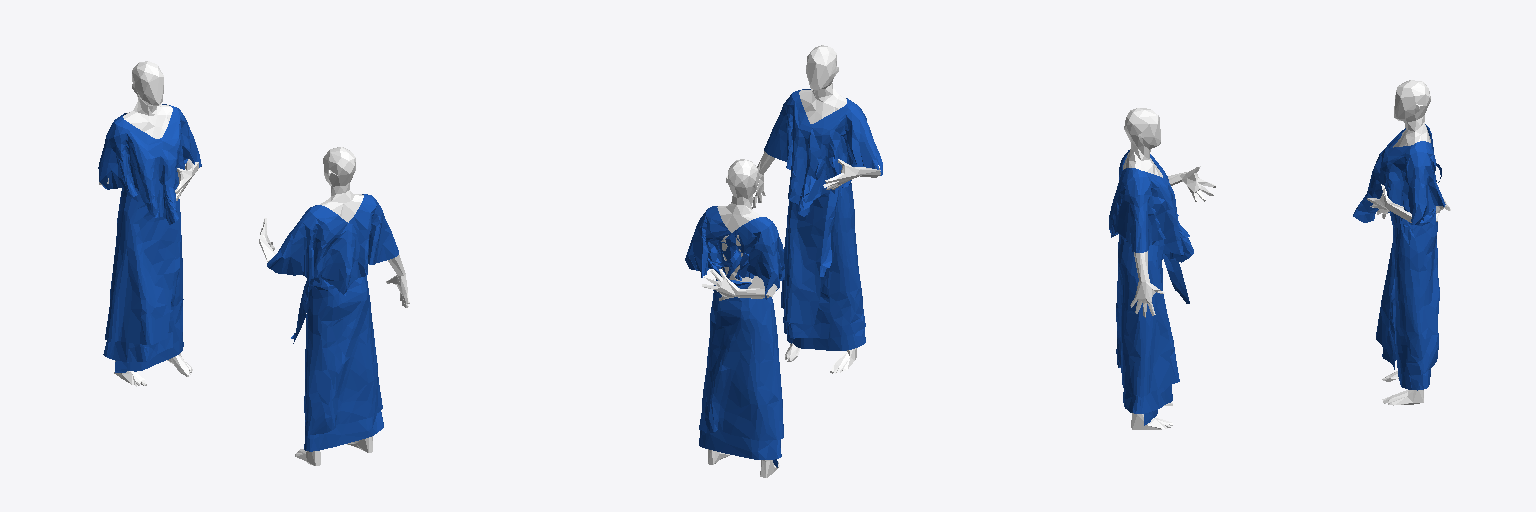
Rendered from charla.obj.
3 views of the same model, side by side, from view 1: azimuth 30°, elevation 25°; view 2: azimuth 150°, elevation 25°; view 3: azimuth 270°, elevation 25° (orthographic).
Visible parts, largest first — view 1: TrajeTipico.001, TrajeTipico, Maniqui.001, Maniqui; view 2: TrajeTipico.001, TrajeTipico, Maniqui.001, Maniqui; view 3: TrajeTipico.001, TrajeTipico, Maniqui.001, Maniqui.
Part boxes in pixels (left/top/right/bottom): TrajeTipico.001: left=267, top=194, right=398, bottom=451; TrajeTipico: left=98, top=104, right=201, bottom=372; Maniqui.001: left=259, top=147, right=409, bottom=465; Maniqui: left=99, top=61, right=198, bottom=386; TrajeTipico.001: left=764, top=89, right=882, bottom=350; TrajeTipico: left=685, top=206, right=784, bottom=467; Maniqui.001: left=751, top=45, right=880, bottom=373; Maniqui: left=702, top=159, right=779, bottom=477; TrajeTipico.001: left=1109, top=150, right=1193, bottom=425; TrajeTipico: left=1353, top=124, right=1445, bottom=390; Maniqui.001: left=1123, top=108, right=1215, bottom=429; Maniqui: left=1367, top=80, right=1450, bottom=405.
Size of the model in its own units: 104 by 183 by 184.